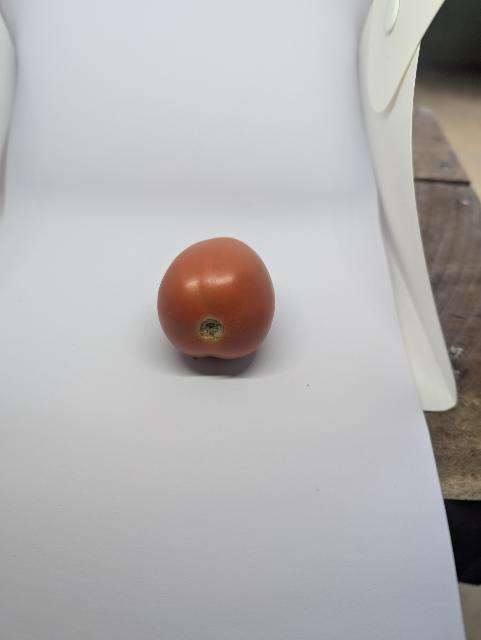red: (138, 223, 291, 380)
